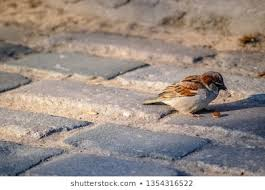home_sparrow: (141, 62, 235, 118)
